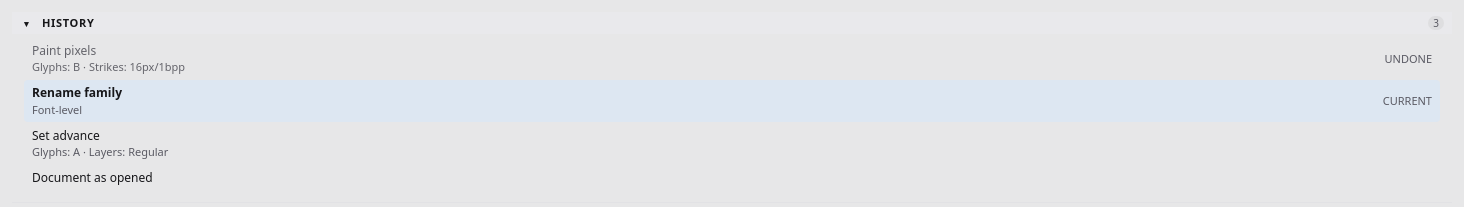
Scenario: returns to the state before any edit
Click the button with aria-label "Go back to the state before any edit".
click(92, 177)  # box [24,165,1440,190]
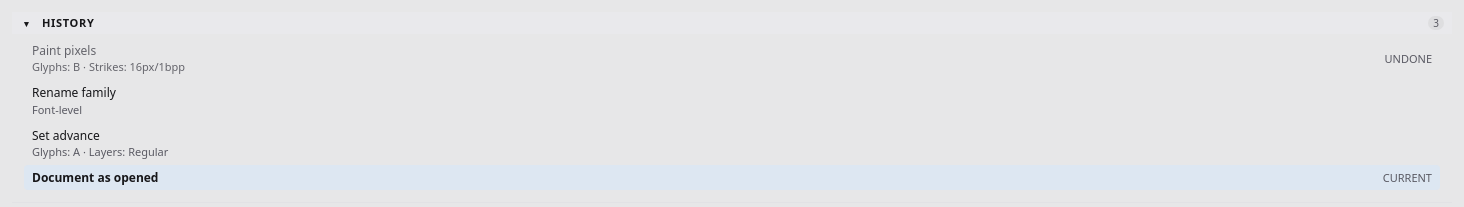
Check: the button with aria-label "Go back to the state before any edit" is disabled, box [24,165,1440,190]
